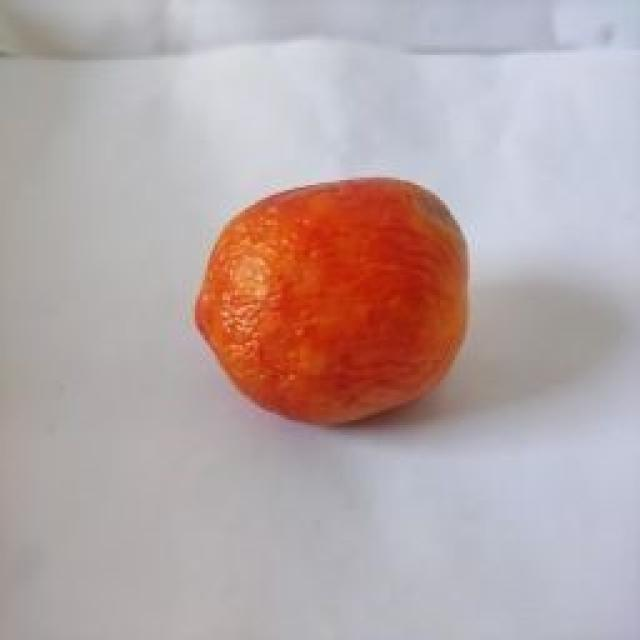overripe: (193, 171, 478, 427)
